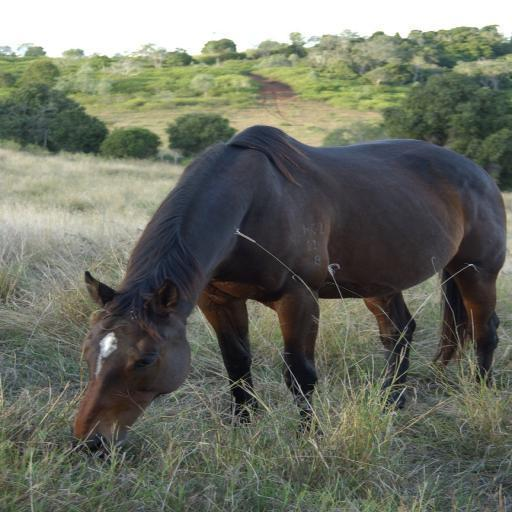horse: (68, 125, 509, 452)
